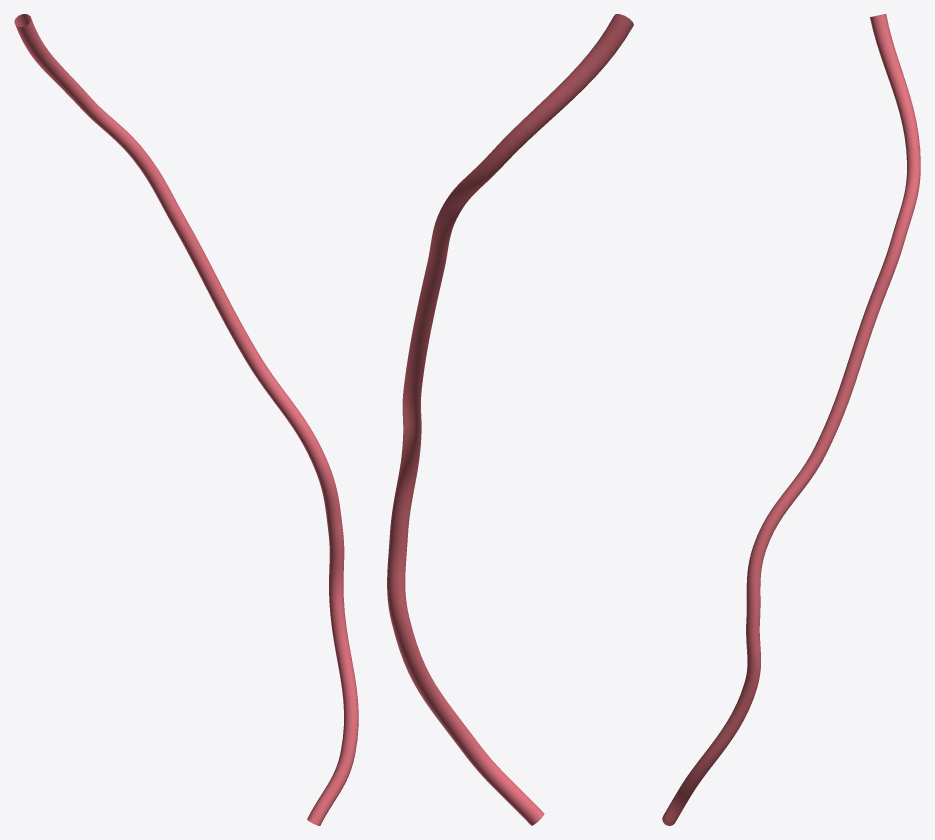
3 views of the same model, side by side, from view 1: azimuth 30°, elevation 25°; view 2: azimuth 150°, elevation 25°; view 3: azimuth 270°, elevation 25° (orthographic). The views are drawn at different scales.
Visible parts, largest first — view 1: ZA_19d3c3ee8757d83f; view 2: ZA_19d3c3ee8757d83f; view 3: ZA_19d3c3ee8757d83f.
Boxes of the visible parts, left/top/right/bottom form: ZA_19d3c3ee8757d83f: left=14, top=14, right=358, bottom=825; ZA_19d3c3ee8757d83f: left=387, top=14, right=633, bottom=825; ZA_19d3c3ee8757d83f: left=662, top=14, right=920, bottom=825.
Size of the model in its own units: 0.0509 by 0.1437 by 0.0462.
